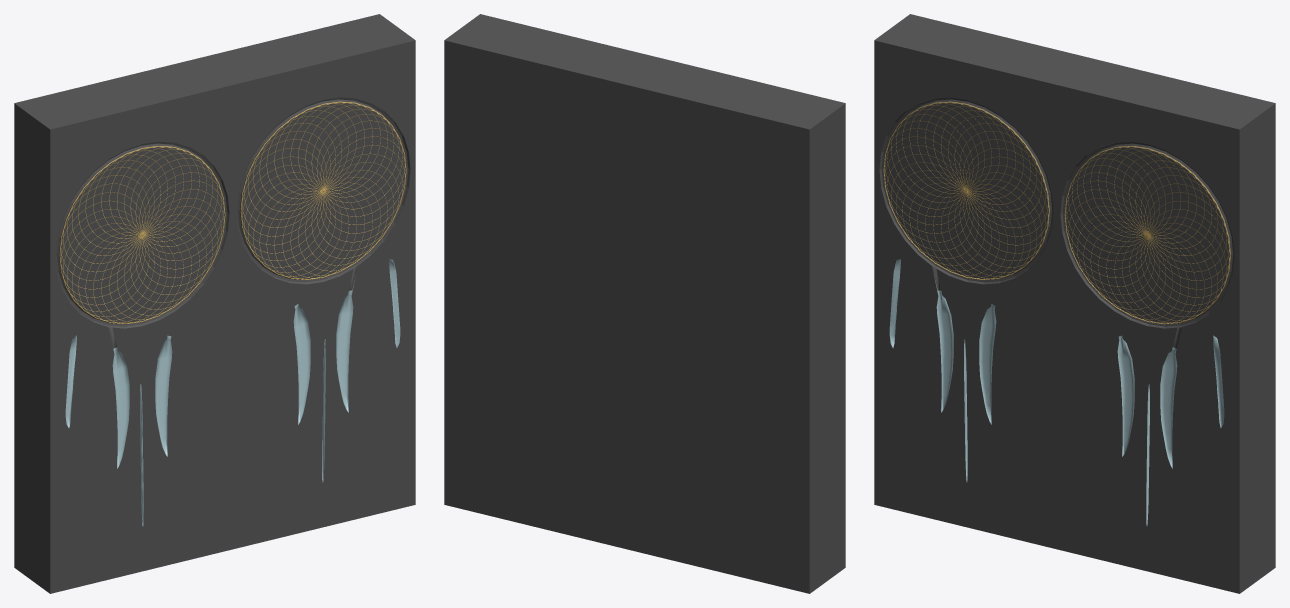
The model's file is DreamcatcherBlock.glb.
3 views of the same model, side by side, from view 1: azimuth 30°, elevation 25°; view 2: azimuth 150°, elevation 25°; view 3: azimuth 330°, elevation 25° (orthographic).
Parts seen in each view (by area): view 1: DreamcatcherBlock, Strings.001, Strings.002; view 2: DreamcatcherBlock; view 3: DreamcatcherBlock, Strings.002, Strings.001.
Part boxes in pixels (x1,y1,x2,y2): DreamcatcherBlock: (14,14,415,593); Strings.001: (240,101,406,279); Strings.002: (59,146,225,323); DreamcatcherBlock: (444,14,845,593); DreamcatcherBlock: (874,14,1275,593); Strings.002: (883,101,1049,279); Strings.001: (1064,146,1230,324).
Size of what is drawn, in the model's own units: 8.85 by 10.75 by 1.51.
